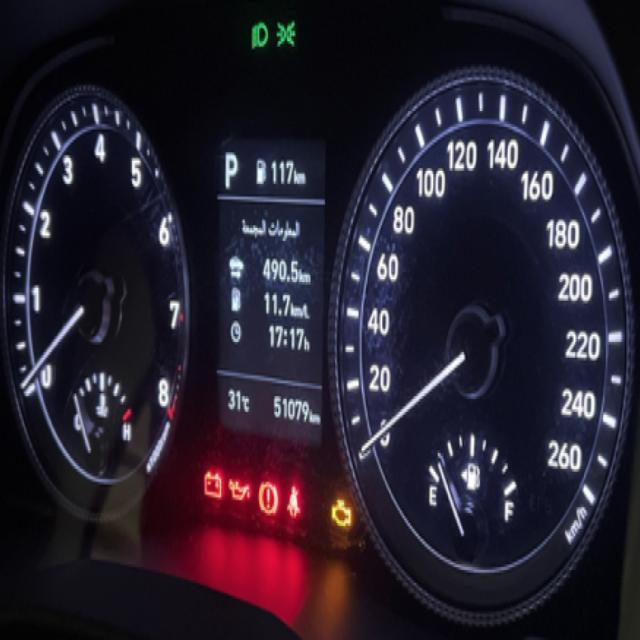Seat Belt: (283, 478, 305, 526)
